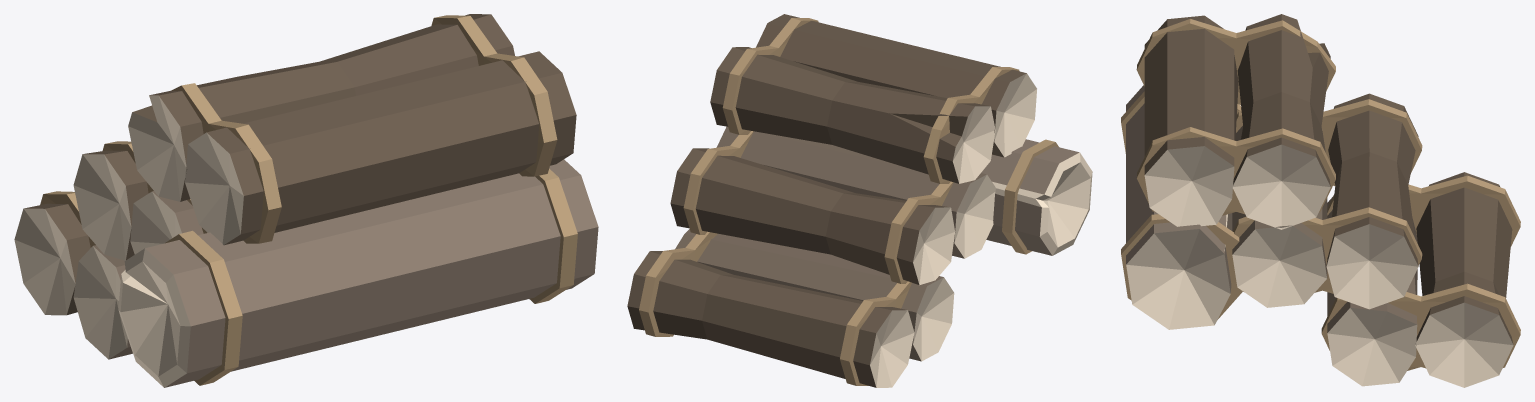
File: _STAIRS_PART_01.fbx
3 views of the same model, side by side, from view 1: azimuth 30°, elevation 25°; view 2: azimuth 150°, elevation 25°; view 3: azimuth 270°, elevation 25° (orthographic). The views are drawn at different scales.
Visible parts, largest first — view 1: STAIRS_PART_01; view 2: STAIRS_PART_01; view 3: STAIRS_PART_01.
Part boxes in pixels (box(x1,y1,x2,y2)): STAIRS_PART_01: box(14, 14, 598, 387); STAIRS_PART_01: box(627, 14, 1092, 387); STAIRS_PART_01: box(1121, 14, 1520, 387).
Bounding box in the file's own units: 156 × 112 × 163.
